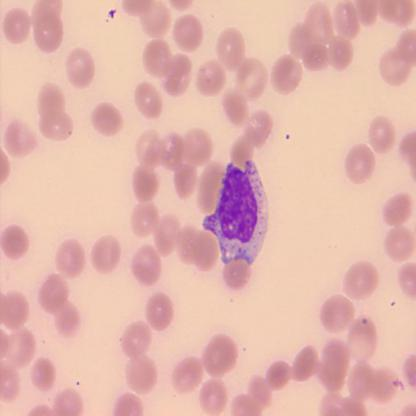Myelocyte: (207, 160, 266, 262)
